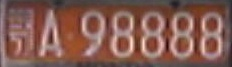A: (38, 10, 64, 58)
